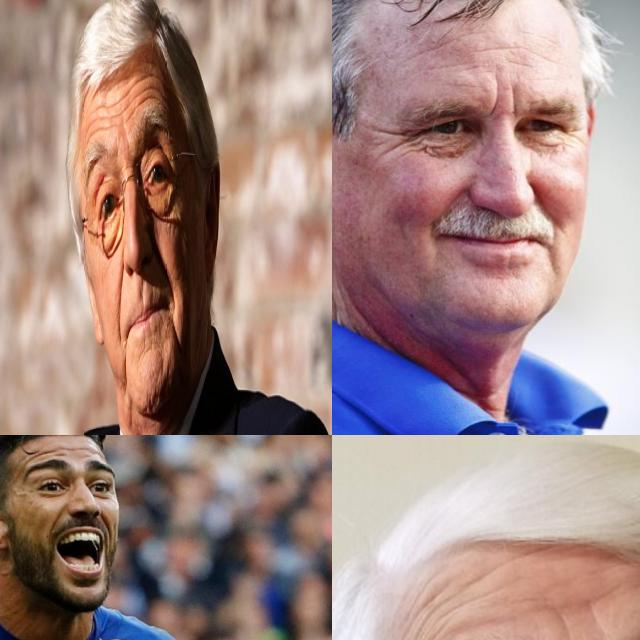chin: (140, 340, 162, 358)
crows_feet: (378, 124, 420, 156), (560, 121, 584, 143)
forehead: (398, 574, 456, 640), (462, 548, 532, 582), (121, 77, 161, 105), (87, 108, 118, 136), (418, 34, 458, 54), (478, 39, 520, 57), (26, 446, 66, 459)
frown_line: (552, 598, 610, 640), (488, 86, 504, 120), (508, 86, 522, 120)
gummy_smile: (117, 261, 124, 335), (48, 508, 64, 536), (101, 517, 113, 551)
sad_smile: (172, 316, 184, 358), (123, 345, 129, 387)
